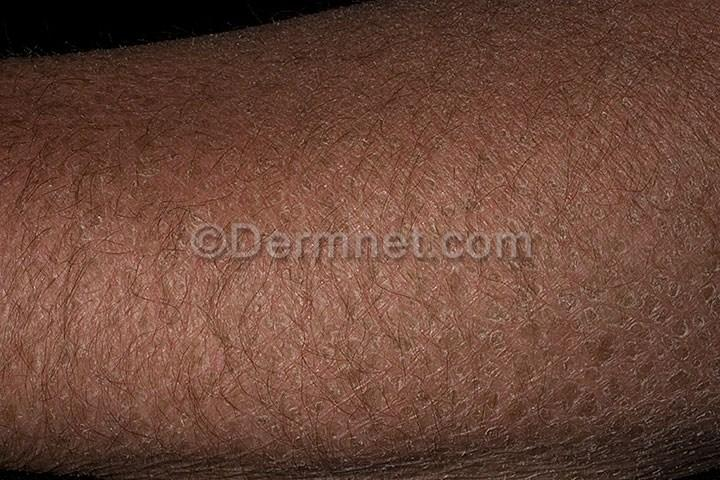Eritema 2: (0, 1, 719, 479)
liquenificacion 1: (0, 0, 719, 479)
xerosis 3: (0, 0, 719, 479)
